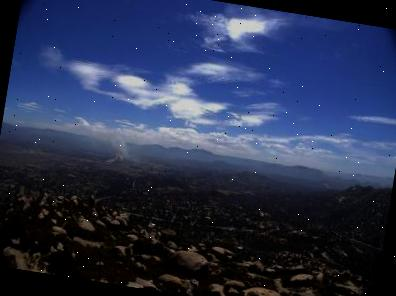smoke: (99, 128, 138, 172)
